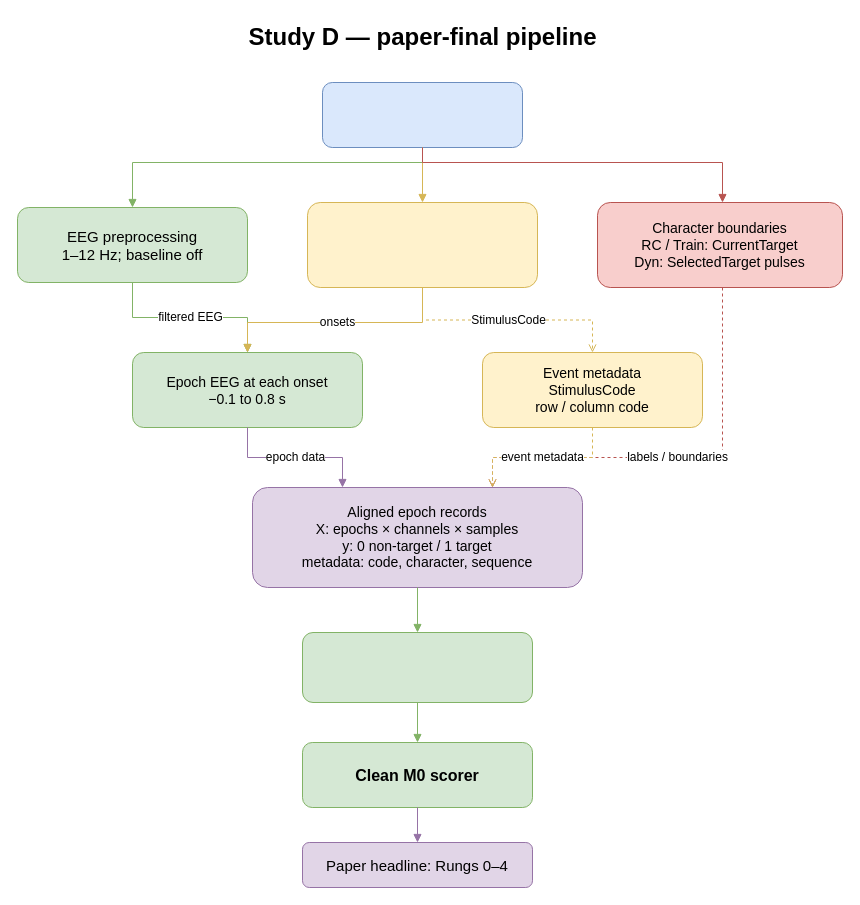
Image size: 860x905. Some labels were removed from this diagram. Each missing label, with the centre of its shape:
Flash events StimulusBegin → onset StimulusType → target label: pixel 422 245
M0 features 0–0.8 s; decim 2: pixel 417 667
Study D EDF EEG + triggers: pixel 422 115
